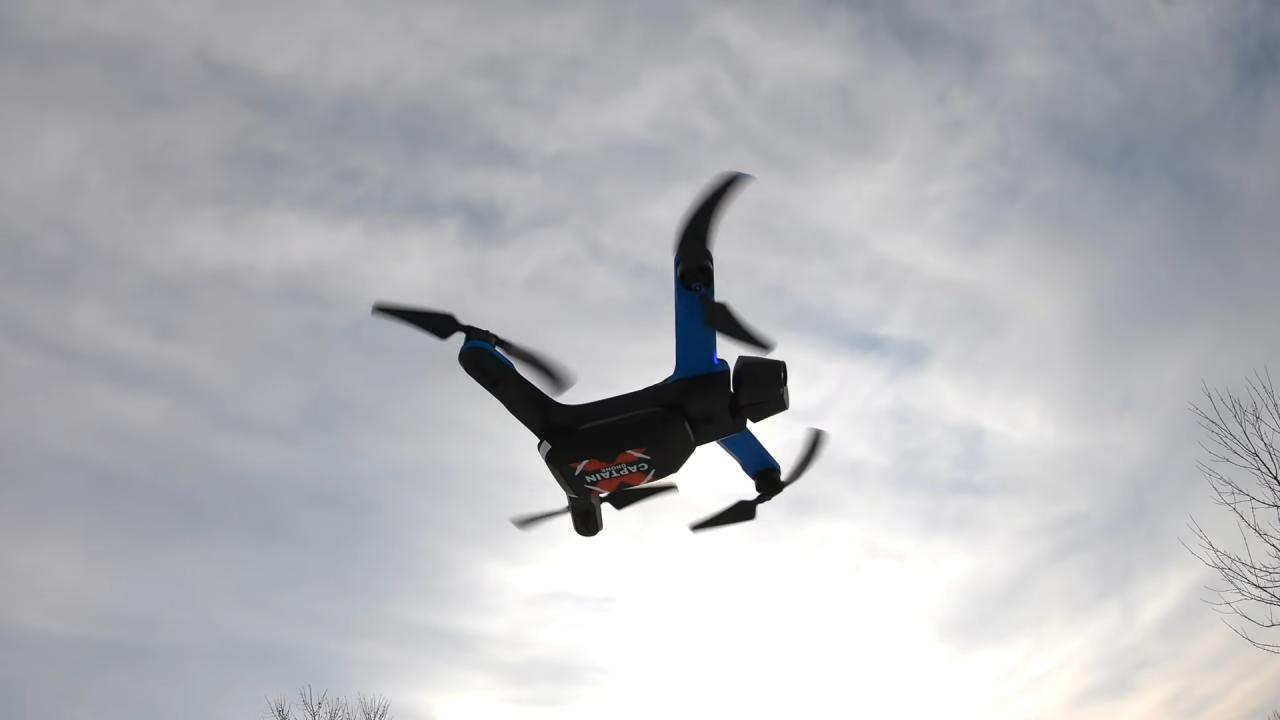Drone: (361, 159, 840, 552)
